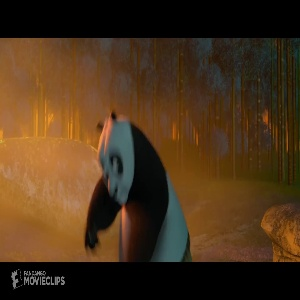po: (78, 110, 194, 262)
